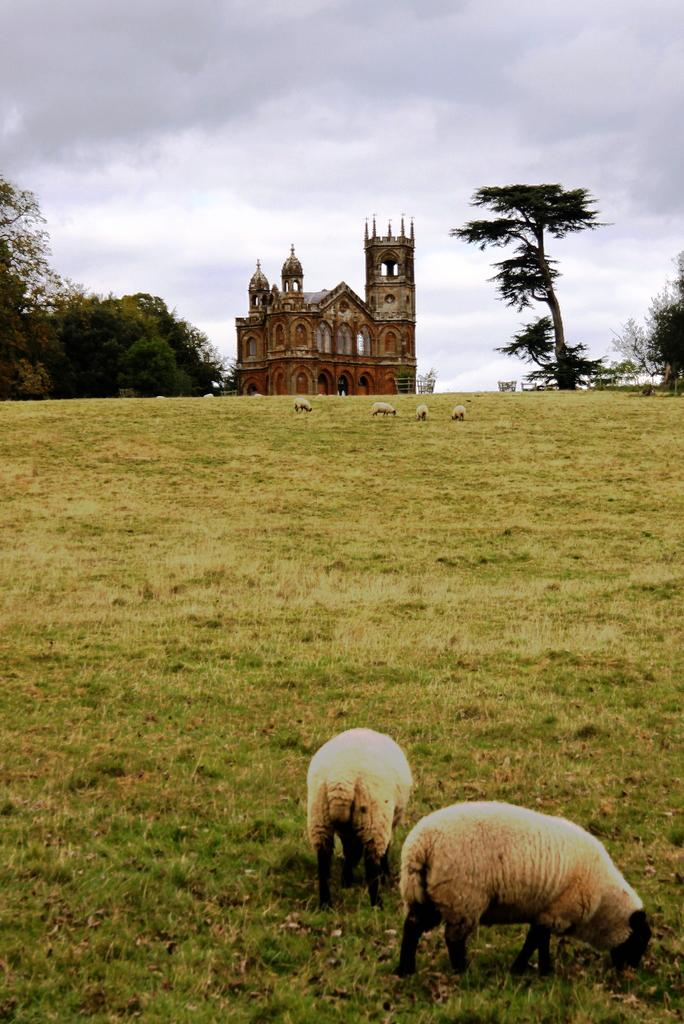Sheep: (401, 802, 656, 979), (310, 725, 409, 902), (374, 400, 394, 421), (294, 393, 309, 409), (453, 407, 467, 422), (419, 403, 426, 421)
